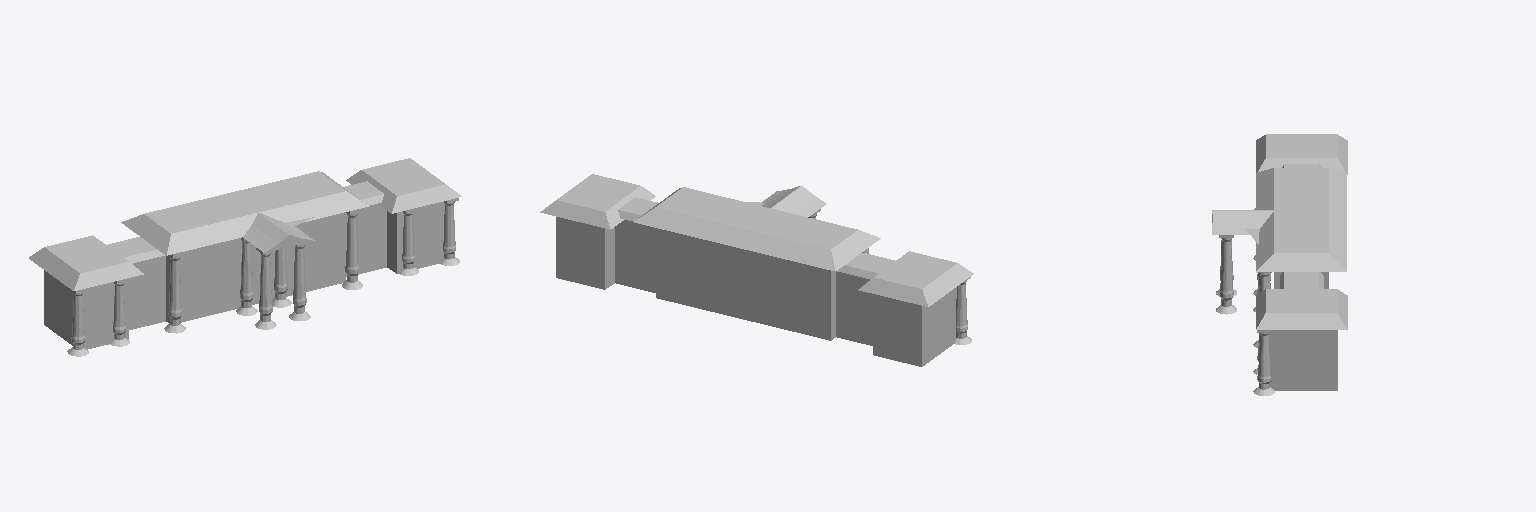
The model's file is mansion2.obj.
3 renders of one model, left to right at view 1: azimuth 30°, elevation 25°; view 2: azimuth 150°, elevation 25°; view 3: azimuth 270°, elevation 25°, orthographic.
Visible parts, largest first — view 1: Cube_Cube.001; view 2: Cube_Cube.001; view 3: Cube_Cube.001.
Boxes of the visible parts, x1=… form: Cube_Cube.001: x1=29, y1=158, x2=461, y2=356; Cube_Cube.001: x1=540, y1=174, x2=973, y2=366; Cube_Cube.001: x1=1212, y1=134, x2=1347, y2=395.
Bounding box in the file's own units: 27.77 × 6.2 × 8.33.